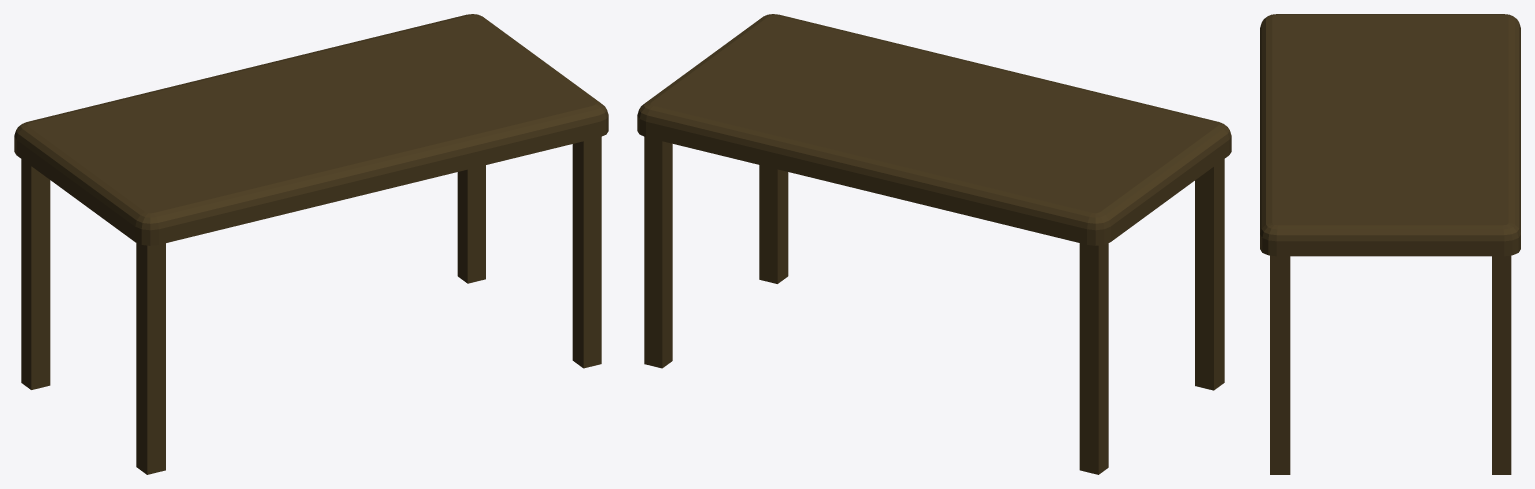
The model's file is Timmy's Table.fbx.
3 views of the same model, side by side, from view 1: azimuth 30°, elevation 25°; view 2: azimuth 150°, elevation 25°; view 3: azimuth 270°, elevation 25° (orthographic). The views are drawn at different scales.
Visible parts, largest first — view 1: Table; view 2: Table; view 3: Table.
Boxes of the visible parts, <box> form: Table: <box>14,14,608,474</box>; Table: <box>637,14,1231,474</box>; Table: <box>1260,14,1520,474</box>.
Size of the model in its own units: 400 by 210 by 200.
